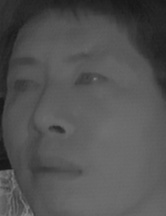eye: (70, 68, 109, 91), (8, 75, 42, 96)
mouth: (24, 153, 87, 190)
